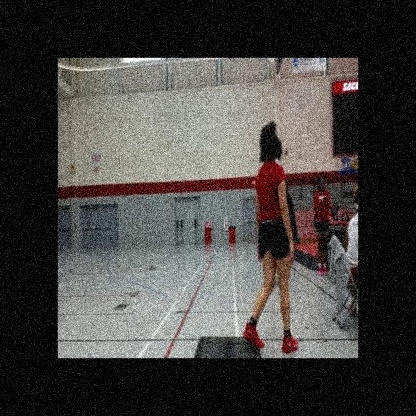lateral_flexion_right: (241, 114, 299, 358)
stance_width_broad: (241, 155, 299, 358)
